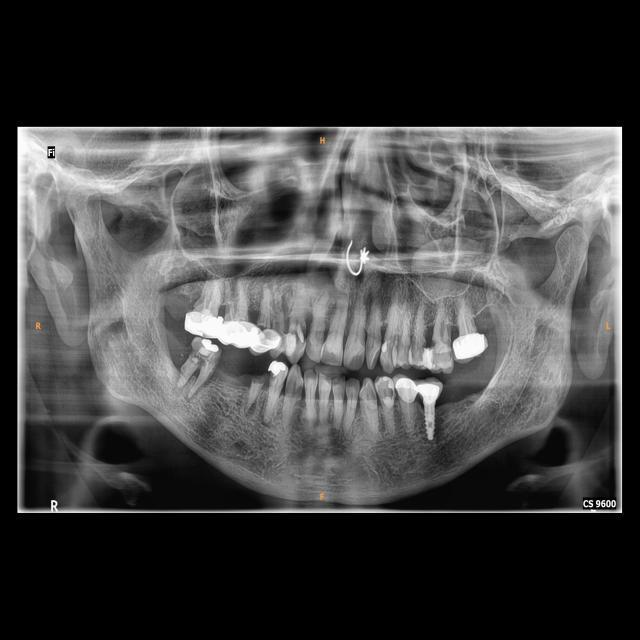dentin-curugu: (382, 385, 396, 403), (190, 342, 200, 362)
dolgu: (283, 326, 301, 359), (270, 362, 289, 378), (424, 347, 438, 366)
implant: (417, 378, 439, 442)
kaplama: (221, 322, 257, 352), (184, 309, 221, 338), (452, 333, 485, 360), (395, 377, 418, 404), (254, 330, 277, 350), (199, 339, 217, 357)
kirik: (249, 371, 268, 389)
